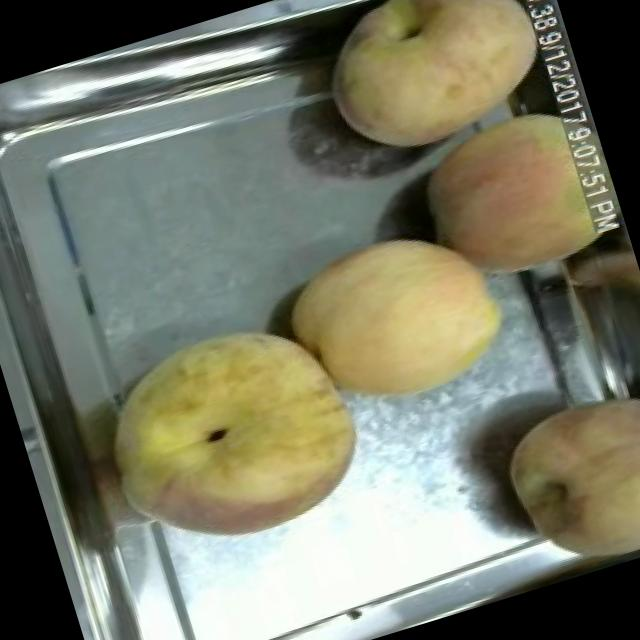Fruit: (77, 292, 386, 578), (261, 199, 529, 433), (394, 82, 628, 306), (293, 0, 572, 180), (478, 362, 640, 590)
